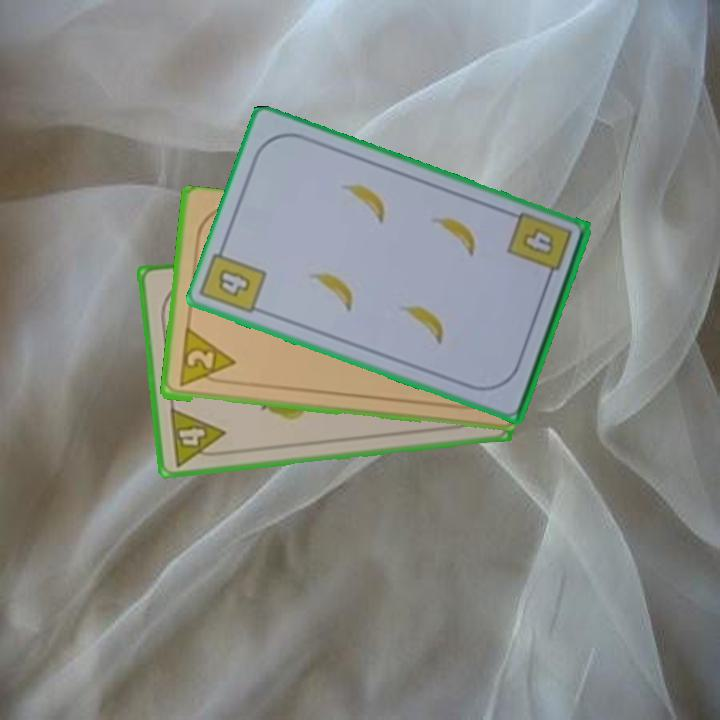2p: (175, 327, 237, 391)
4b: (504, 208, 575, 287), (214, 265, 254, 300)
4p: (166, 404, 230, 469)
